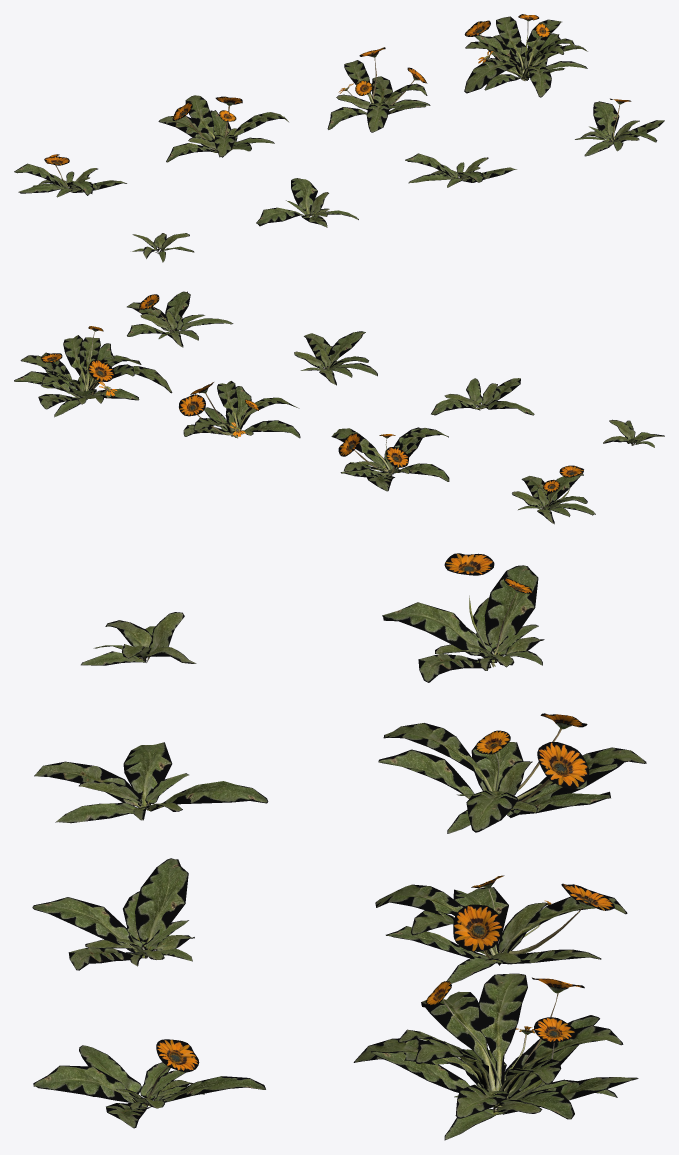
File: flower_gazania.glb
3 views of the same model, one above another, from view 1: azimuth 30°, elevation 25°; view 2: azimuth 150°, elevation 25°; view 3: azimuth 270°, elevation 25° (orthographic). The views are drawn at different scales.
Parts seen in each view (by area): view 1: flower_gazania_h_LOD0, flower_gazania_f_LOD0, flower_gazania_g_LOD0, flower_gazania_d_LOD0, flower_gazania_b_LOD0, flower_gazania_e_LOD0, flower_gazania_c_LOD0, flower_gazania_a_LOD0; view 2: flower_gazania_h_LOD0, flower_gazania_g_LOD0, flower_gazania_f_LOD0, flower_gazania_d_LOD0, flower_gazania_e_LOD0, flower_gazania_c_LOD0, flower_gazania_b_LOD0, flower_gazania_a_LOD0; view 3: flower_gazania_h_LOD0, flower_gazania_f_LOD0, flower_gazania_g_LOD0, flower_gazania_e_LOD0, flower_gazania_c_LOD0, flower_gazania_d_LOD0, flower_gazania_b_LOD0, flower_gazania_a_LOD0.
Part boxes in pixels (x1,y1,x2,y2): flower_gazania_h_LOD0: [464, 14, 587, 97]; flower_gazania_f_LOD0: [158, 95, 288, 162]; flower_gazania_g_LOD0: [327, 47, 430, 132]; flower_gazania_d_LOD0: [575, 98, 664, 156]; flower_gazania_b_LOD0: [256, 178, 358, 227]; flower_gazania_e_LOD0: [14, 154, 126, 197]; flower_gazania_c_LOD0: [405, 153, 516, 187]; flower_gazania_a_LOD0: [132, 233, 194, 262]; flower_gazania_h_LOD0: [14, 326, 172, 417]; flower_gazania_g_LOD0: [179, 381, 300, 438]; flower_gazania_f_LOD0: [331, 427, 449, 491]; flower_gazania_d_LOD0: [127, 291, 233, 347]; flower_gazania_e_LOD0: [512, 465, 595, 524]; flower_gazania_c_LOD0: [294, 331, 377, 385]; flower_gazania_b_LOD0: [431, 378, 534, 415]; flower_gazania_a_LOD0: [603, 419, 664, 447]; flower_gazania_h_LOD0: [353, 973, 638, 1140]; flower_gazania_f_LOD0: [378, 713, 646, 833]; flower_gazania_g_LOD0: [375, 875, 627, 983]; flower_gazania_e_LOD0: [382, 553, 544, 682]; flower_gazania_c_LOD0: [32, 858, 194, 970]; flower_gazania_d_LOD0: [33, 1039, 265, 1128]; flower_gazania_b_LOD0: [34, 742, 268, 823]; flower_gazania_a_LOD0: [81, 612, 196, 665].
Size of the model in its own units: 1.48 by 0.1653 by 0.7028.
1 material, 1 textured.
